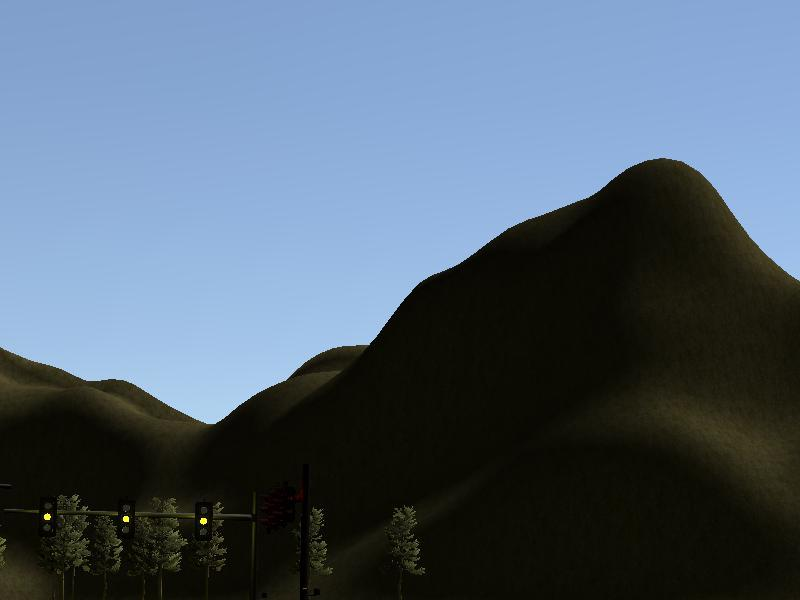Yellow: (39, 497, 56, 536), (195, 502, 212, 540), (119, 500, 134, 538)
